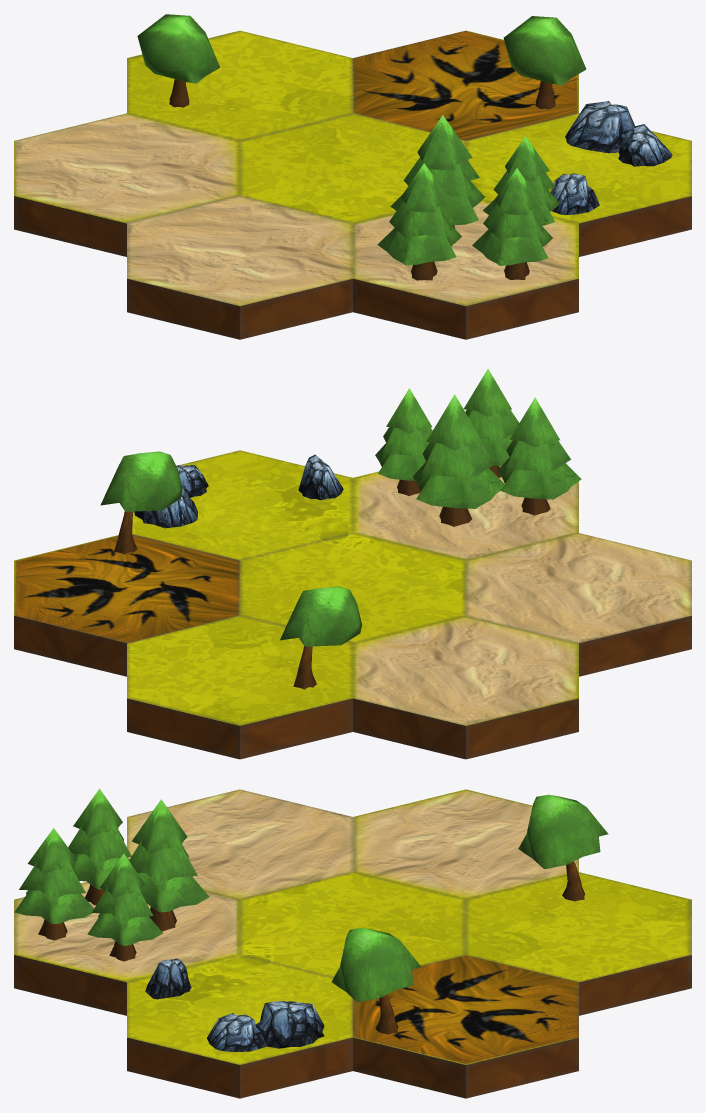
The model's file is Tile_Forest2.fbx.
The picture shows the model from 3 angles, top to bottom: view 1: azimuth 30°, elevation 25°; view 2: azimuth 150°, elevation 25°; view 3: azimuth 270°, elevation 25°; orthographic projection.
Parts seen in each view (by area): view 1: tile1, tree05, tree09, tree012, tree013, tree011, mountain2, tree010, mountain3, mountain4; view 2: tile1, tree011, tree05, tree012, tree013, tree010, tree09, mountain4, mountain2, mountain3; view 3: tile1, tree011, tree013, tree012, tree09, tree010, tree05, mountain2, mountain3, mountain4.
Boxes of the visible parts, left/top/right/bottom form: tile1: left=14, top=30, right=691, bottom=339; tree05: left=377, top=163, right=461, bottom=280; tree09: left=472, top=168, right=552, bottom=279; tree012: left=503, top=16, right=586, bottom=109; tree013: left=137, top=14, right=219, bottom=107; tree011: left=390, top=115, right=484, bottom=246; mountain2: left=565, top=101, right=635, bottom=153; tree010: left=483, top=136, right=559, bottom=225; mountain3: left=618, top=124, right=672, bottom=166; mountain4: left=550, top=173, right=599, bottom=215; tile1: left=14, top=450, right=691, bottom=759; tree011: left=413, top=394, right=504, bottom=526; tree05: left=497, top=397, right=581, bottom=515; tree012: left=100, top=451, right=182, bottom=554; tree013: left=280, top=586, right=361, bottom=689; tree010: left=375, top=388, right=432, bottom=495; tree09: left=463, top=369, right=519, bottom=477; mountain4: left=298, top=454, right=343, bottom=500; mountain2: left=134, top=482, right=197, bottom=528; mountain3: left=176, top=465, right=208, bottom=497; tile1: left=14, top=789, right=691, bottom=1098; tree011: left=129, top=799, right=209, bottom=931; tree013: left=518, top=794, right=608, bottom=901; tree012: left=331, top=928, right=421, bottom=1034; tree09: left=14, top=828, right=93, bottom=940; tree010: left=87, top=853, right=162, bottom=961; tree05: left=68, top=788, right=131, bottom=905; mountain2: left=255, top=1001, right=324, bottom=1048; mountain3: left=207, top=1013, right=266, bottom=1051; mountain4: left=145, top=958, right=191, bottom=999.
Size of the model in its own units: 128 by 34.36 by 133.
